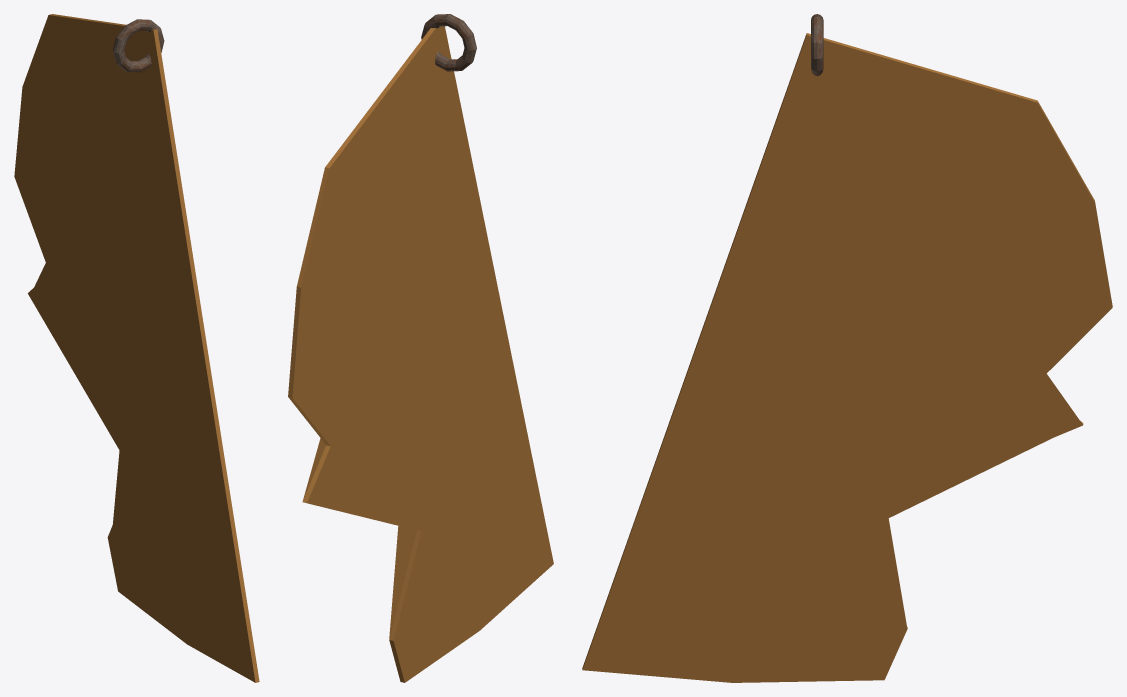
File: RustedCalender.fbx
The picture shows the model from 3 angles, left to right: view 1: azimuth 30°, elevation 25°; view 2: azimuth 150°, elevation 25°; view 3: azimuth 270°, elevation 25°; orthographic projection. The views are drawn at different scales.
Parts seen in each view (by area): view 1: Backboard, Torus; view 2: Backboard, Torus; view 3: Backboard.
Part boxes in pixels (x1,y1,x2,y2): Backboard: (14,14,259,682); Torus: (113,19,164,72); Backboard: (288,26,553,682); Torus: (421,14,476,71); Backboard: (582,33,1112,682).
Bounding box in the file's own units: 17.71 × 203 × 148.
2 materials, 1 textured.
